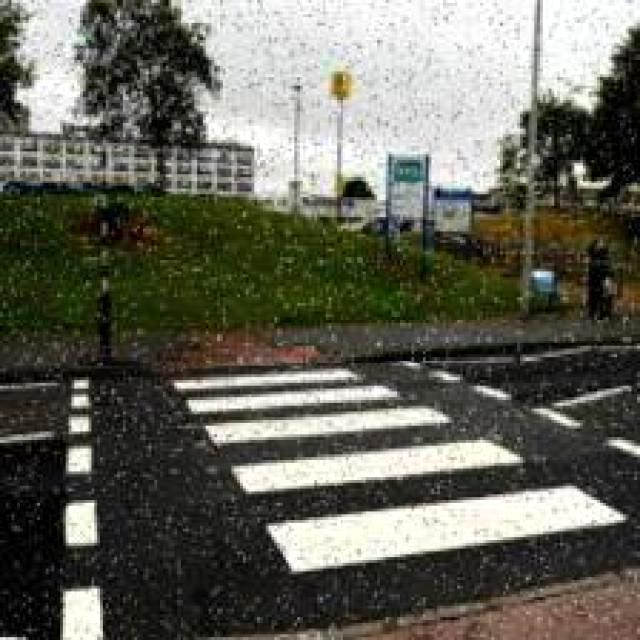crosswalk: (162, 346, 637, 638)
